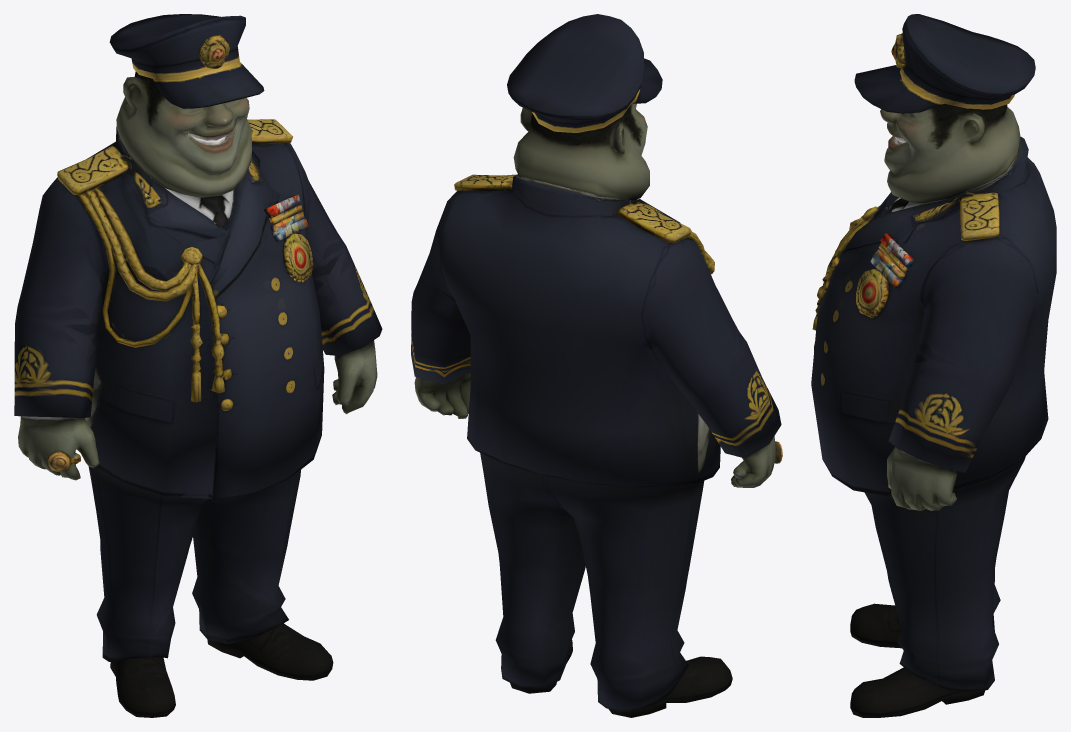
Rendered from 019f4241-9896-7250-a007-276bffb41e2a.glb.
3 renders of one model, left to right at view 1: azimuth 30°, elevation 25°; view 2: azimuth 150°, elevation 25°; view 3: azimuth 270°, elevation 25°, orthographic.
Visible parts, largest first — view 1: tripo_node_af494ab3-539f-40a2-97b2-0f53f5e56f5b; view 2: tripo_node_af494ab3-539f-40a2-97b2-0f53f5e56f5b; view 3: tripo_node_af494ab3-539f-40a2-97b2-0f53f5e56f5b.
Part boxes in pixels (bbox=[...]): tripo_node_af494ab3-539f-40a2-97b2-0f53f5e56f5b: bbox=[14, 14, 382, 717]; tripo_node_af494ab3-539f-40a2-97b2-0f53f5e56f5b: bbox=[411, 14, 782, 717]; tripo_node_af494ab3-539f-40a2-97b2-0f53f5e56f5b: bbox=[811, 14, 1056, 717].
Bounding box in the file's own units: 0.5645 × 0.998 × 0.3418.
Materials: 1 (1 with a texture image).
